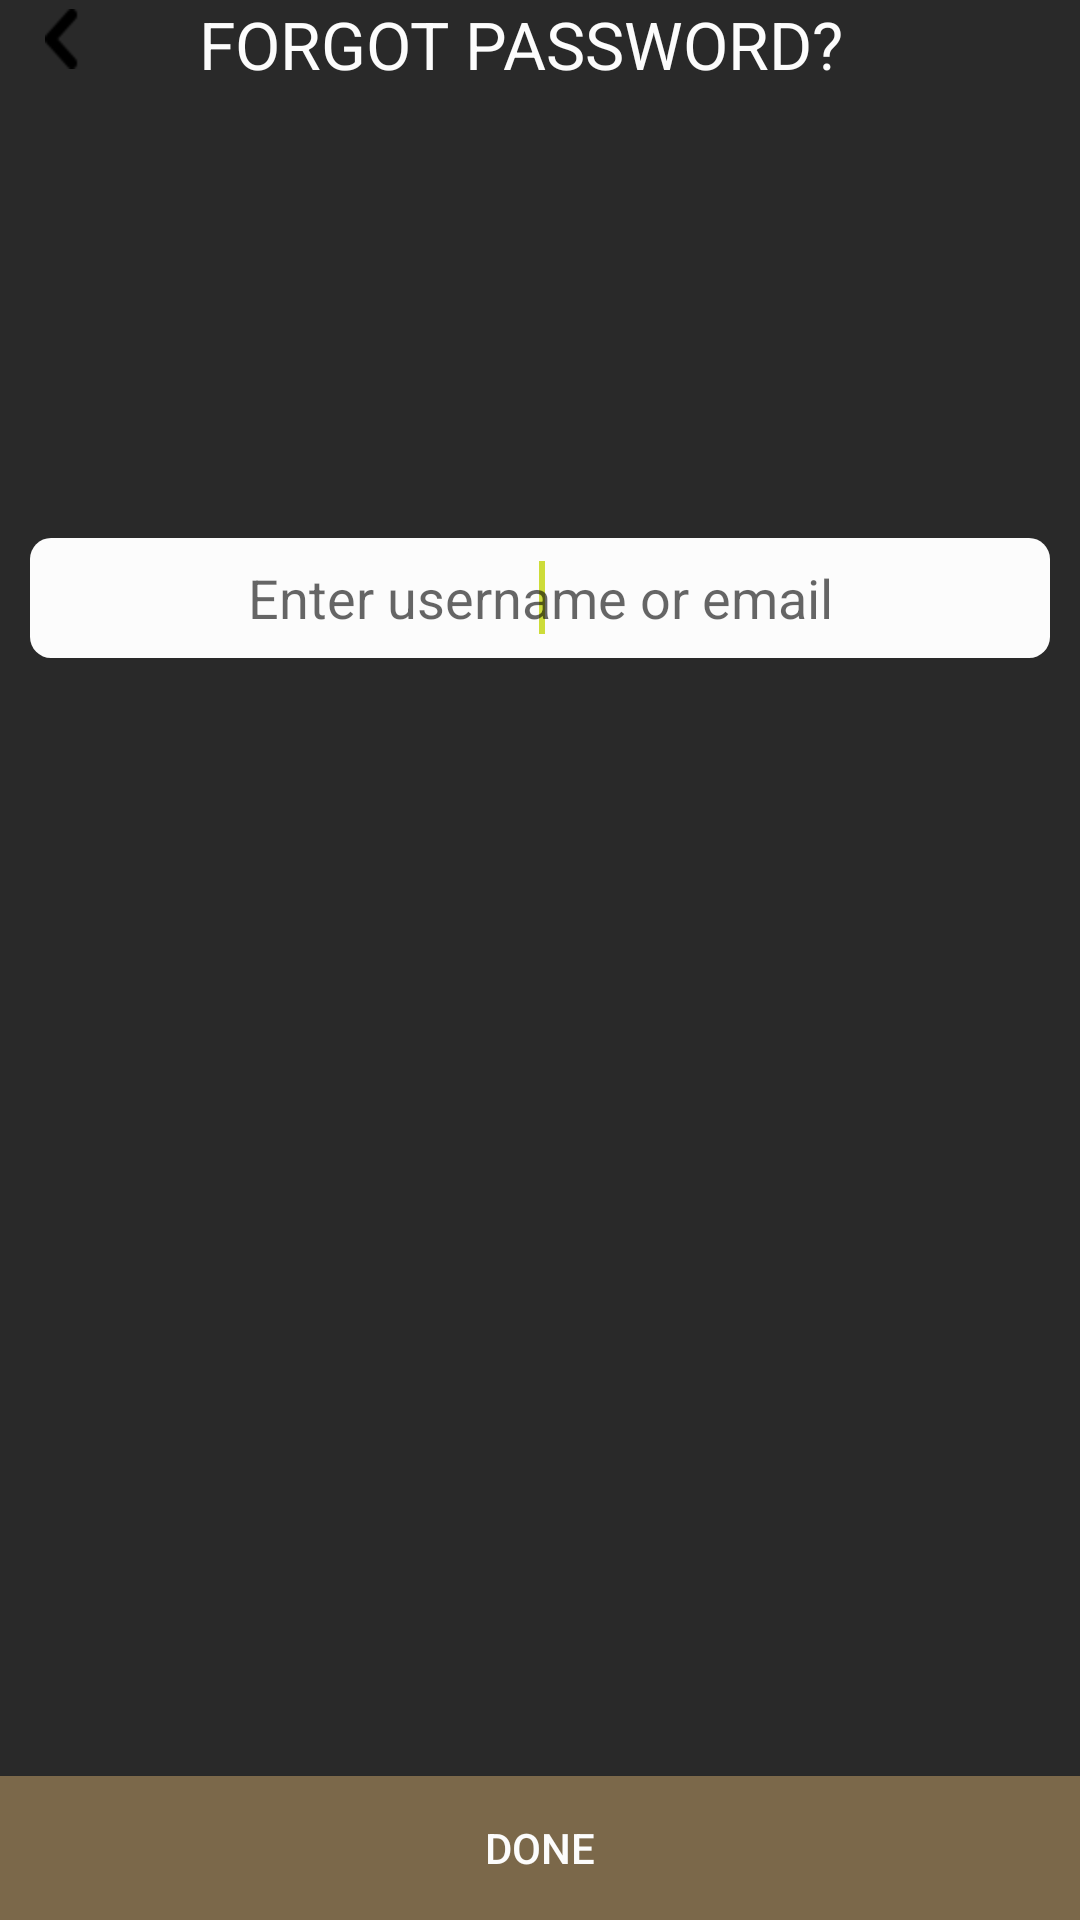

Where to tap for icons on this 1080x1920 app screen, as (x=x, y=y):
wolfpack back arrow: (x=61, y=39)
